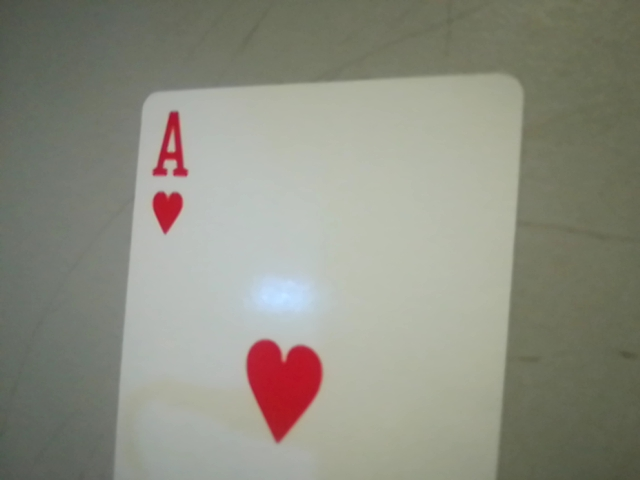hx a: (133, 95, 204, 246)
